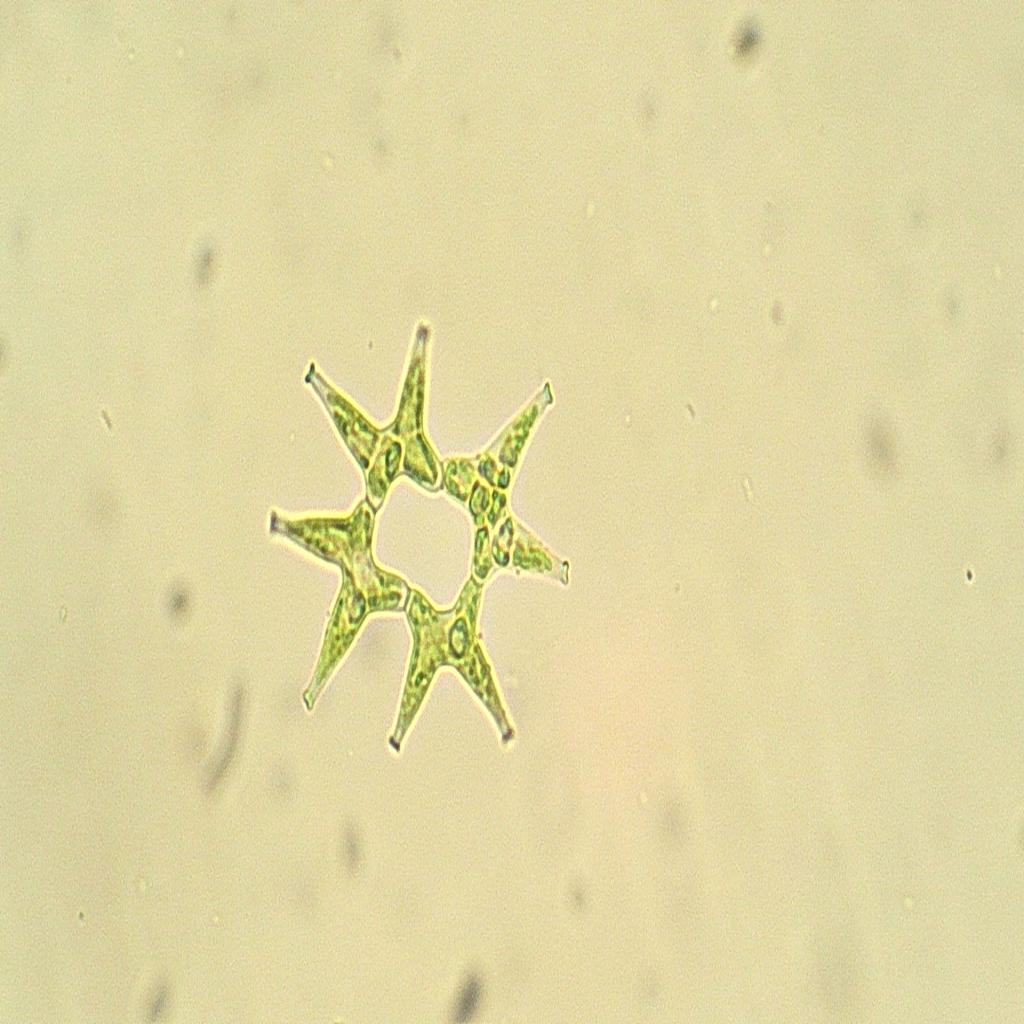Pediastrum_10: (250, 300, 596, 788)
